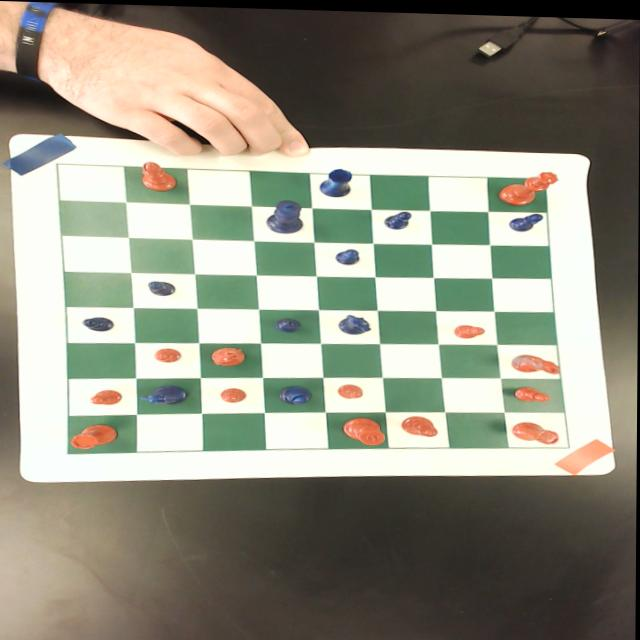B: (278, 382, 313, 403)
K: (266, 197, 305, 232)
N: (139, 383, 189, 404), (340, 311, 372, 332)
P: (510, 208, 545, 229), (383, 208, 413, 227), (145, 279, 177, 296), (83, 314, 115, 331), (335, 244, 363, 263), (277, 314, 302, 331)
R: (317, 164, 353, 195)
b: (139, 158, 179, 191), (402, 412, 440, 433)
k: (342, 414, 387, 443)
n: (511, 349, 565, 371), (209, 343, 248, 365)
p: (513, 382, 553, 399), (90, 387, 124, 405), (455, 321, 486, 336), (219, 385, 247, 401), (338, 381, 364, 397), (155, 346, 181, 361)
q: (497, 166, 560, 203)
r: (70, 420, 121, 450), (512, 415, 560, 441)
